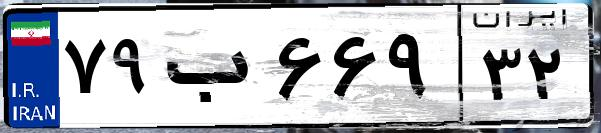2: (525, 38, 570, 115)
3: (475, 38, 525, 113)
6: (270, 28, 330, 110), (330, 28, 385, 110)
7: (57, 26, 110, 100)
9: (385, 28, 445, 110), (110, 28, 158, 98)
ب: (158, 20, 270, 120)
